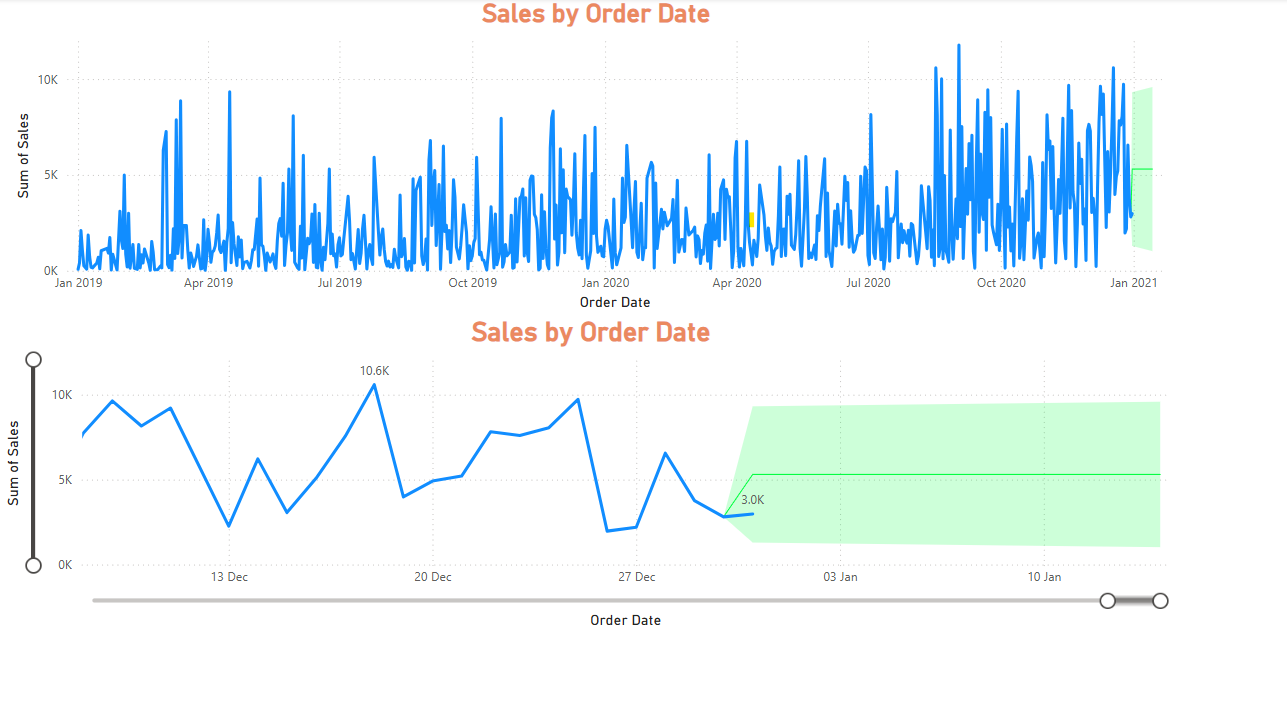

The dashboard page shown, as its layout file describes it:
{"tool":"powerbi","page":{"name":"Forecasting","canvas":[1280,720],"ordinal":1},"visuals":[{"type":"lineChart","title":"Sales by Order Date","fields":{"Y":["Sum(SuperStore_Sales_Dataset.Sales)"],"Category":["SuperStore_Sales_Dataset.Order Date"]},"box":[9.6,0,1147,310.8],"z":0},{"type":"lineChart","title":" Sales by Order Date","fields":{"Y":["Sum(SuperStore_Sales_Dataset.Sales)"],"Category":["SuperStore_Sales_Dataset.Order Date"]},"box":[0,310.8,1156.6,310.8],"z":1000}]}

Visuals, with their boxes in screenshot pixels (x1, y1, x2, y2), scaled from the page's 1280x720 canvas onto the 1287x716 screenshot:
"Sales by Order Date" lineChart: 10/0/1163/309
" Sales by Order Date" lineChart: 0/309/1163/618
